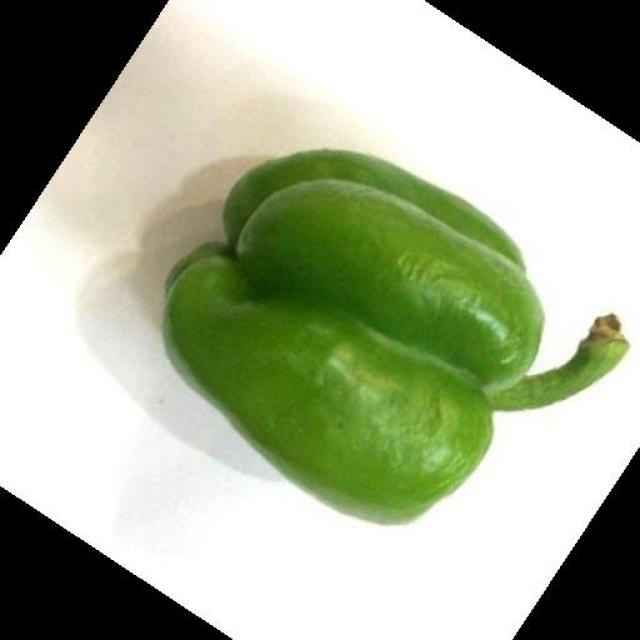Fresh_Capsicum: (216, 159, 562, 491)
